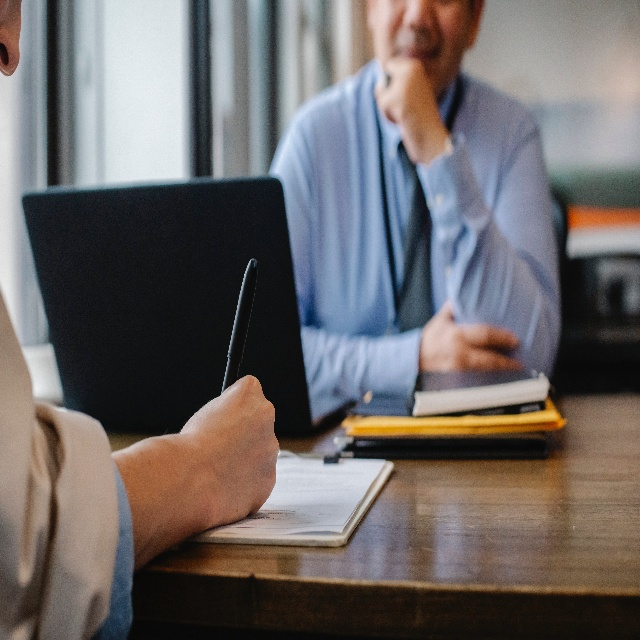Sin_guantes: (180, 370, 281, 528), (372, 53, 449, 166), (419, 299, 526, 374)
